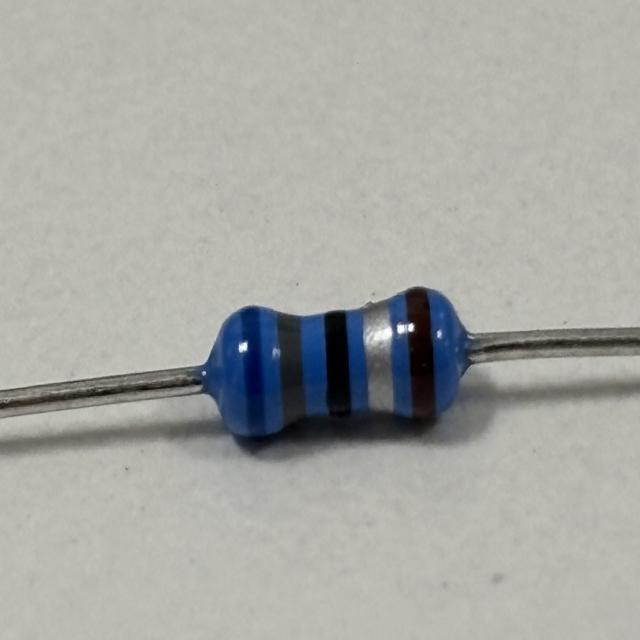resistor: (225, 285, 450, 443)
